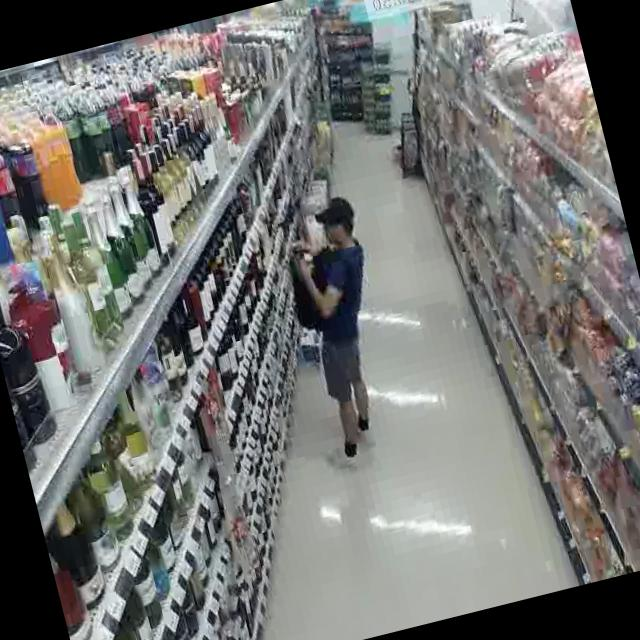shoplifting: (257, 175, 424, 473)
